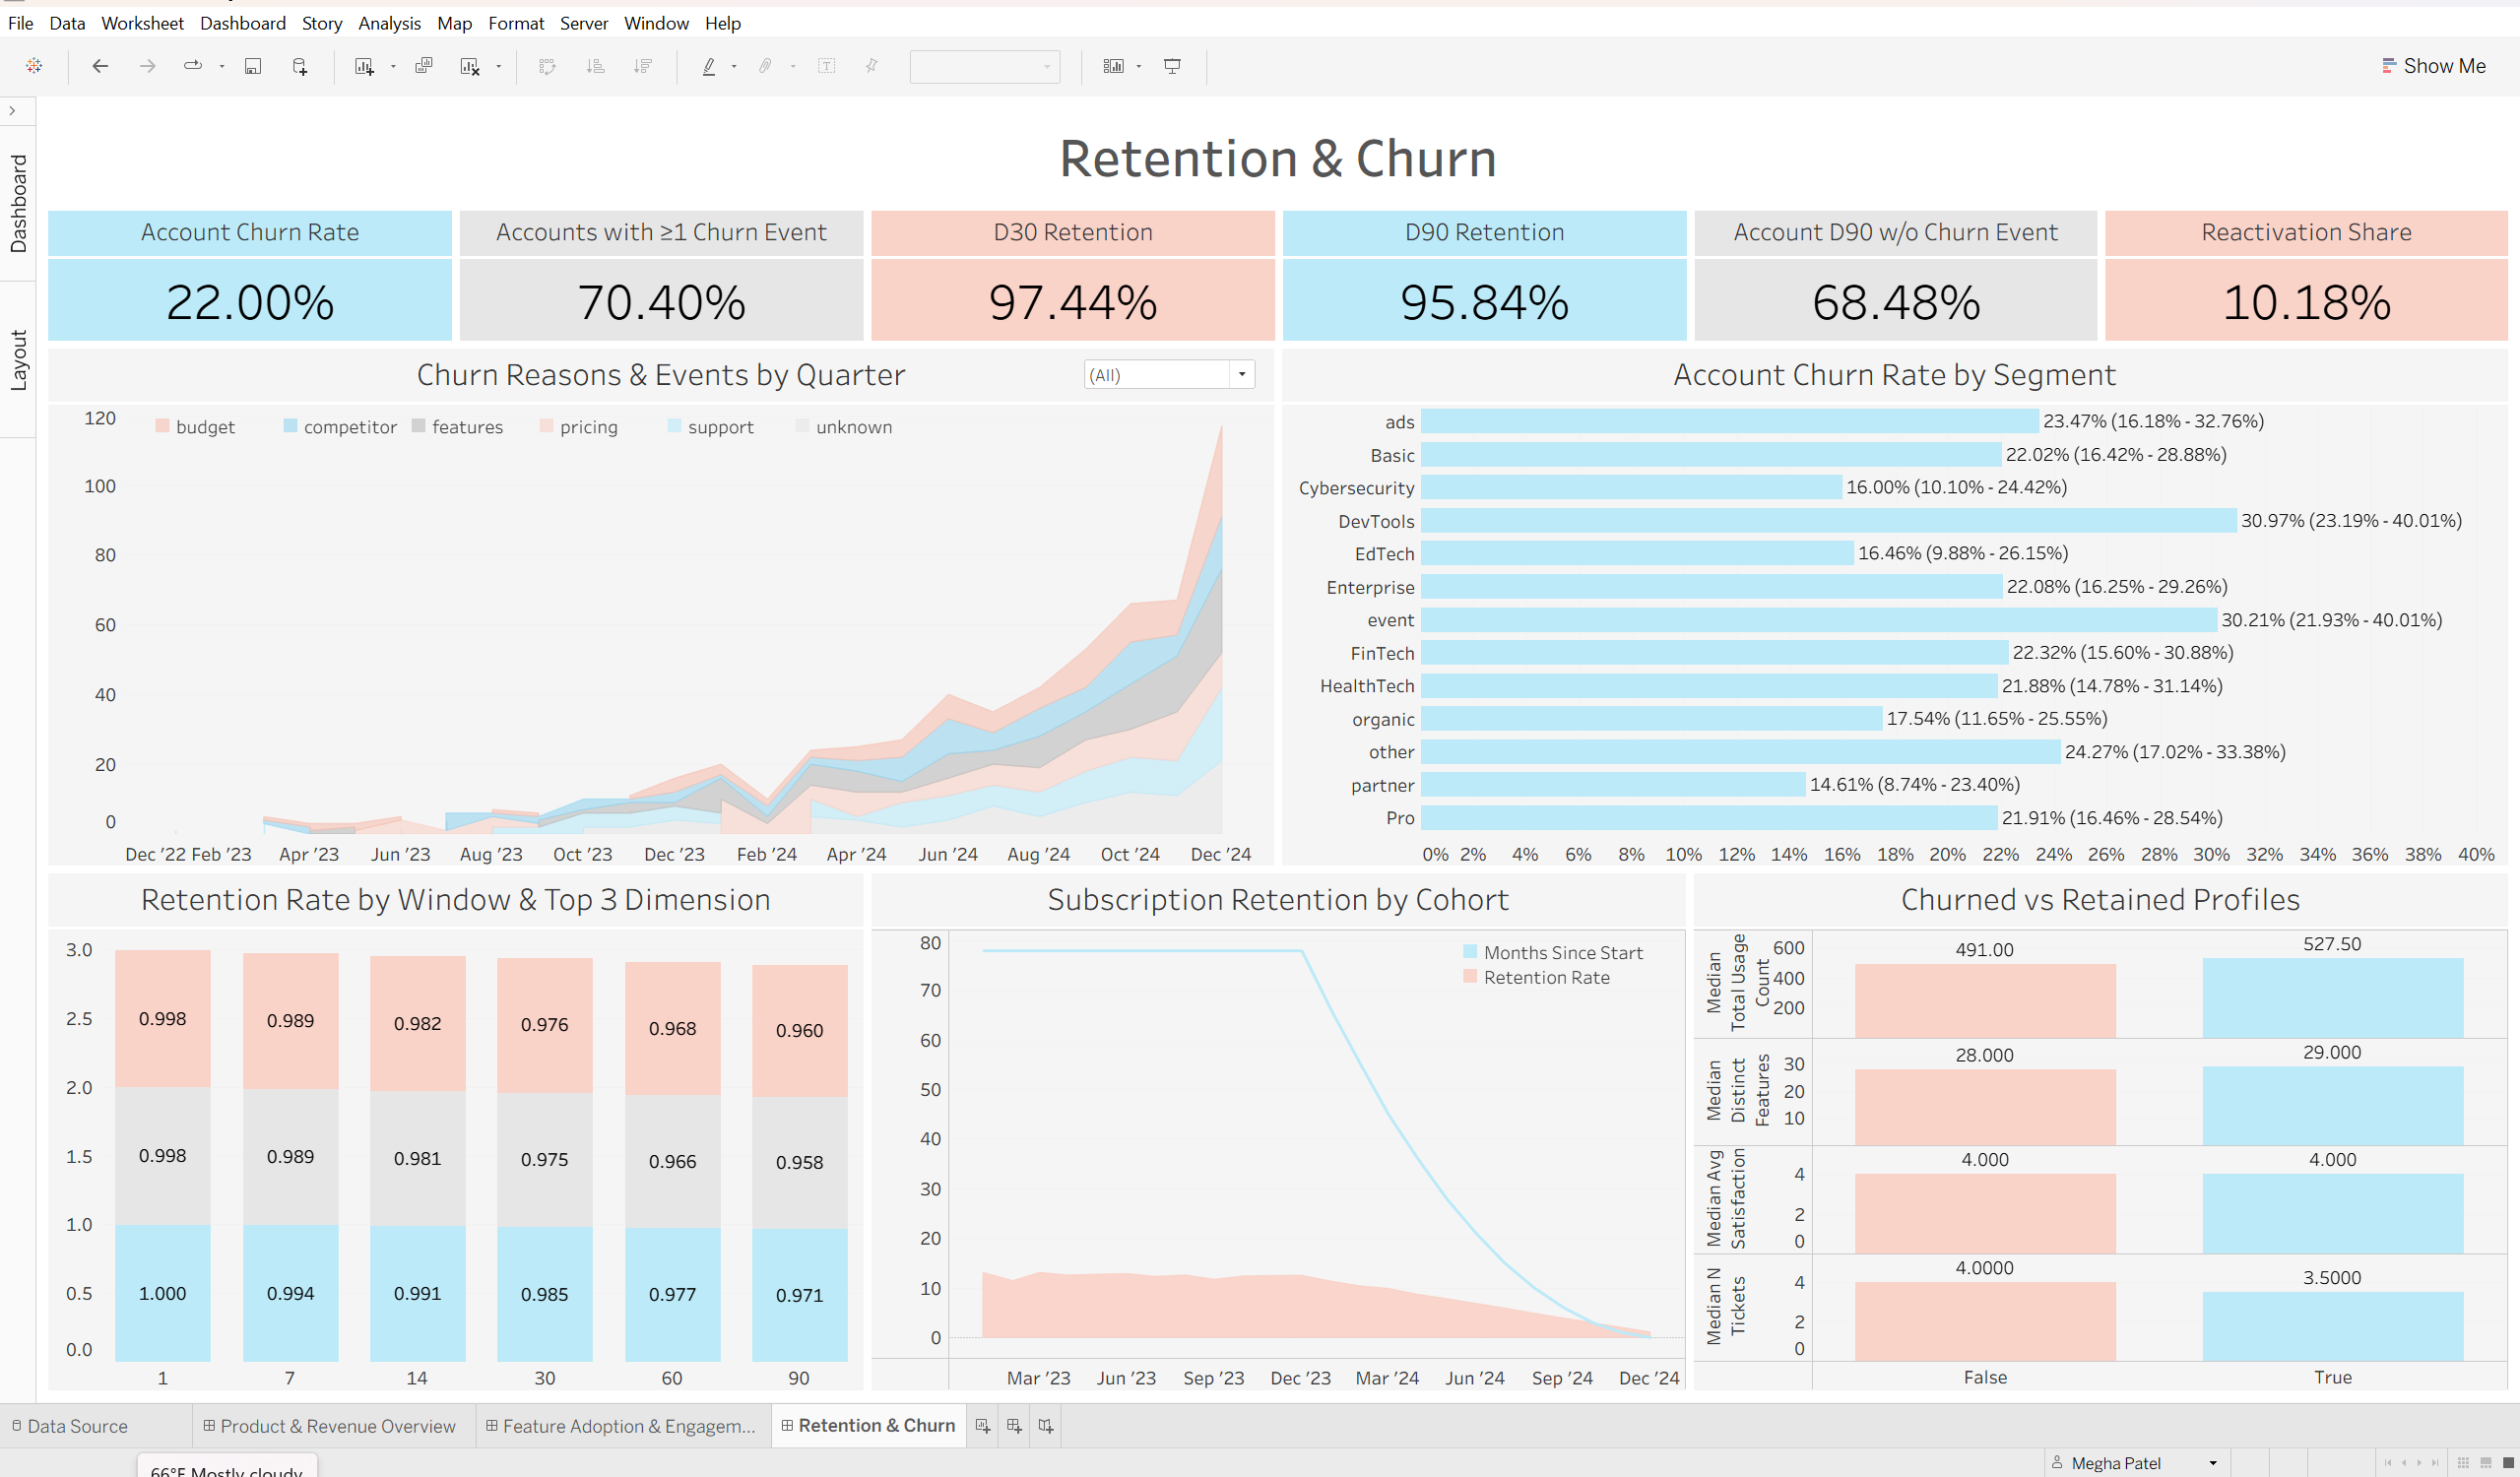

This screenshot's page, from the dashboard's own definition file:
{"tool":"tableau","page":{"name":"Retention & Churn","canvas":[1000,1000],"units":"permille","ordinal":2},"visuals":[{"type":"title","box":[3.2,6,993.7,78.4]},{"type":"worksheet","title":"Account Churn Rate","mark":"Automatic","box":[3.2,84.5,165.7,105.6]},{"type":"worksheet","title":"Accounts with ≥1 Churn Event","mark":"Automatic","box":[168.9,84.5,165.8,105.6]},{"type":"worksheet","title":"D30 Retention ","mark":"Automatic","box":[334.7,84.5,165.7,105.6]},{"type":"worksheet","title":"D90 Retention","mark":"Automatic","box":[500.4,84.5,165.7,105.6]},{"type":"worksheet","title":"Account D90 without Churn Event","mark":"Automatic","box":[666.1,84.5,165.3,105.6]},{"type":"worksheet","title":"Reactivation Share","mark":"Automatic","box":[831.5,84.5,165.3,105.6]},{"type":"worksheet","title":"Churn Reasons & Events by Quarter","mark":"Area","rows":["churn_event_id"],"cols":["churn_month"],"box":[3.2,190.1,496.8,402]},{"type":"worksheet","title":"Account Churn Rate by Segment","mark":"Bar","rows":["segment"],"cols":["churn_rate"],"box":[500,190.1,496.8,402]},{"type":"filter","title":"Churn Reasons & Events by Quarter","param":"[federated.02gf9xd0p364e116grn7w0x1jxcx].[none:reason_code:nk]","box":[420.7,199.1,71.4,27.9]},{"type":"legend","title":"Churn Reasons & Events by Quarter","param":"[federated.02gf9xd0p364e116grn7w0x1jxcx].[none:reason_code:nk]","box":[45.9,242.8,356.9,31.7]},{"type":"worksheet","title":"Retention Rate by Window & Top 3 Dimension","mark":"Automatic","rows":["retention_rate"],"cols":["window_days"],"box":[3.2,592,331.5,402]},{"type":"worksheet","title":"Subscription Retention by Cohort","mark":"Line","rows":["retention_rate","months_since_start"],"cols":["cohort"],"box":[334.7,592,331.1,402]},{"type":"worksheet","title":"Churned vs Retained Profiles","mark":"Bar","rows":["total_usage_count","distinct_features","avg_satisfaction","n_tickets"],"cols":["churn_flag"],"box":[665.7,592,331.1,402]},{"type":"legend","title":"Subscription Retention by Cohort","param":"[federated.03enlr00mwz6o019btg440u6rmrg].[:Measure Names]","box":[572.6,645.6,86.5,57.3]}]}

Visuals, with their boxes on the dashboard's canvas, which has no fixed pixel size, in thousandths of its width and height (x1, y1, x2, y2). These are canvas units, not pixel positions in the 2520x1477 screenshot, which may show the page scaled, cropped or inside an application window:
title: [3, 6, 997, 84]
"Account Churn Rate" worksheet: [3, 84, 169, 190]
"Accounts with ≥1 Churn Event" worksheet: [169, 84, 335, 190]
"D30 Retention " worksheet: [335, 84, 500, 190]
"D90 Retention" worksheet: [500, 84, 666, 190]
"Account D90 without Churn Event" worksheet: [666, 84, 831, 190]
"Reactivation Share" worksheet: [832, 84, 997, 190]
"Churn Reasons & Events by Quarter" worksheet (Area marks): [3, 190, 500, 592]
"Account Churn Rate by Segment" worksheet (Bar marks): [500, 190, 997, 592]
"Churn Reasons & Events by Quarter" filter: [421, 199, 492, 227]
"Churn Reasons & Events by Quarter" legend: [46, 243, 403, 274]
"Retention Rate by Window & Top 3 Dimension" worksheet: [3, 592, 335, 994]
"Subscription Retention by Cohort" worksheet (Line marks): [335, 592, 666, 994]
"Churned vs Retained Profiles" worksheet (Bar marks): [666, 592, 997, 994]
"Subscription Retention by Cohort" legend: [573, 646, 659, 703]
